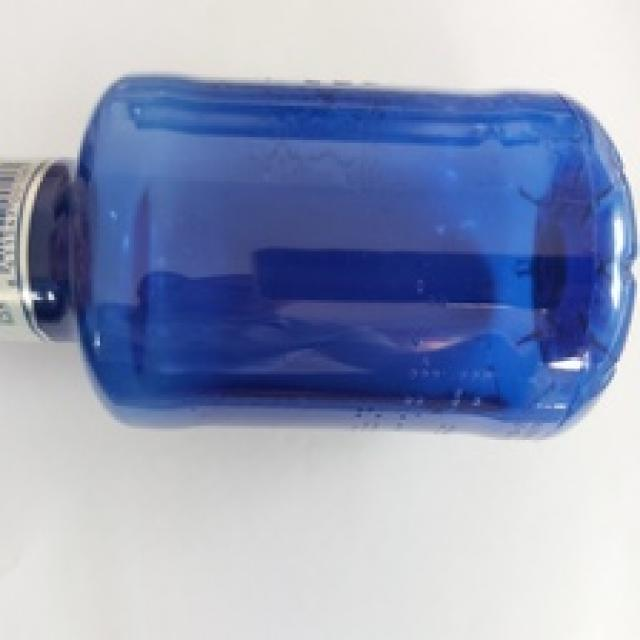Plastic: (2, 72, 638, 437)
